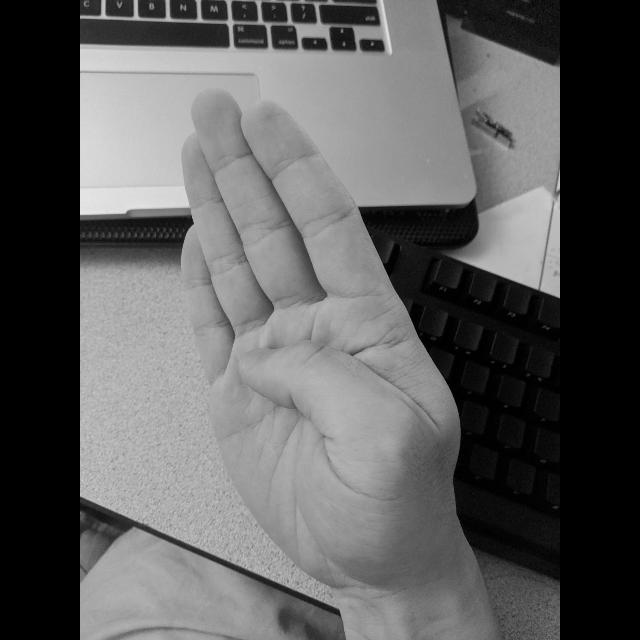B: (168, 81, 480, 604)
